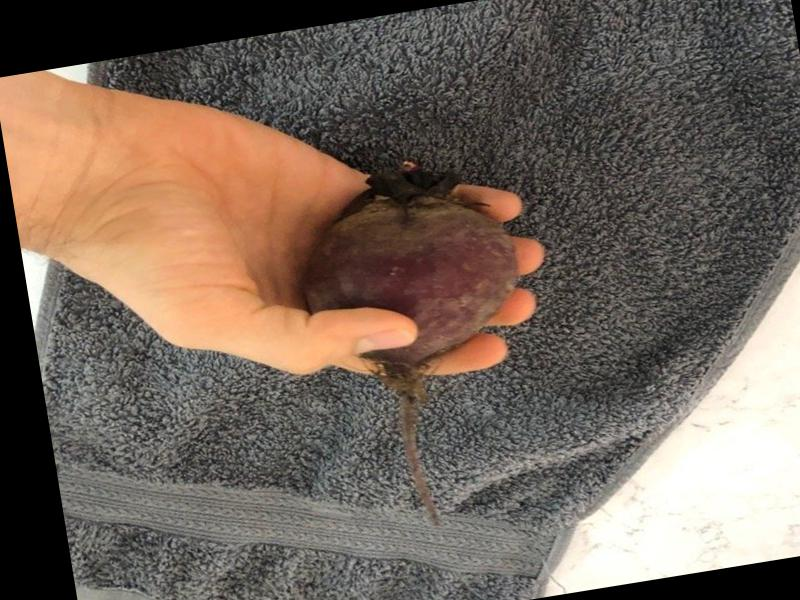Beet: (286, 154, 559, 540)
